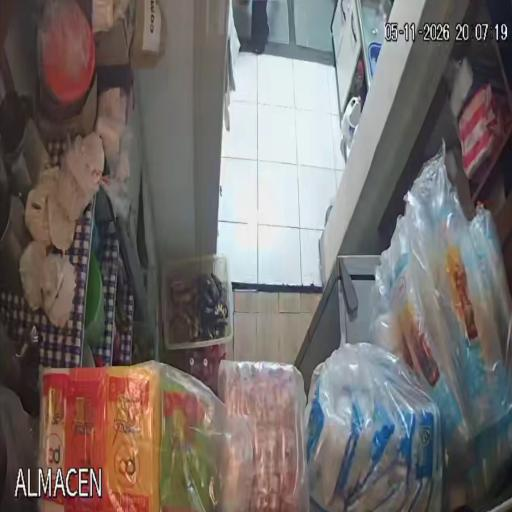Envase para platanos: (161, 254, 233, 351)
Productos culinarios: (15, 361, 252, 512), (306, 344, 442, 512), (218, 361, 309, 512)
Taper: (84, 253, 105, 350)
Taper2: (82, 342, 96, 367)
